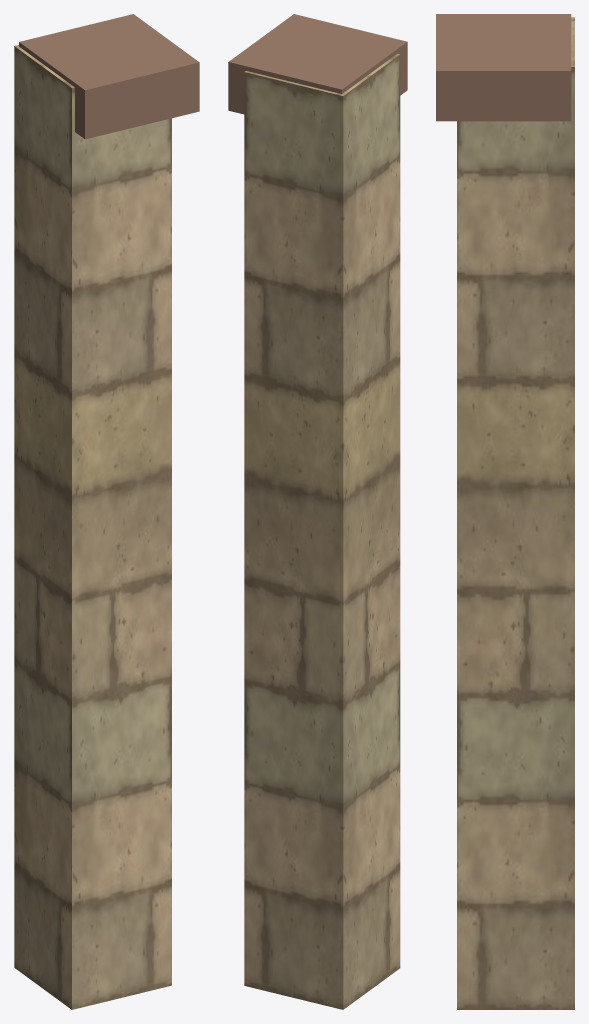
File: corner_stone.glb
The picture shows the model from 3 angles, left to right: view 1: azimuth 30°, elevation 25°; view 2: azimuth 150°, elevation 25°; view 3: azimuth 270°, elevation 25°; orthographic projection. The views are drawn at different scales.
Visible parts, largest first — view 1: corner_stone_stone2, corner_stone_timber; view 2: corner_stone_stone2, corner_stone_timber; view 3: corner_stone_stone2, corner_stone_timber.
Part boxes in pixels (x1,y1,x2,y2): corner_stone_stone2: (14, 45, 171, 1009); corner_stone_timber: (19, 14, 199, 139); corner_stone_stone2: (244, 53, 400, 1009); corner_stone_timber: (228, 14, 407, 114); corner_stone_stone2: (457, 17, 574, 1009); corner_stone_timber: (436, 14, 571, 121).
Bounding box in the file's own units: 0.4 × 3.02 × 0.4.
2 materials, 1 textured.
